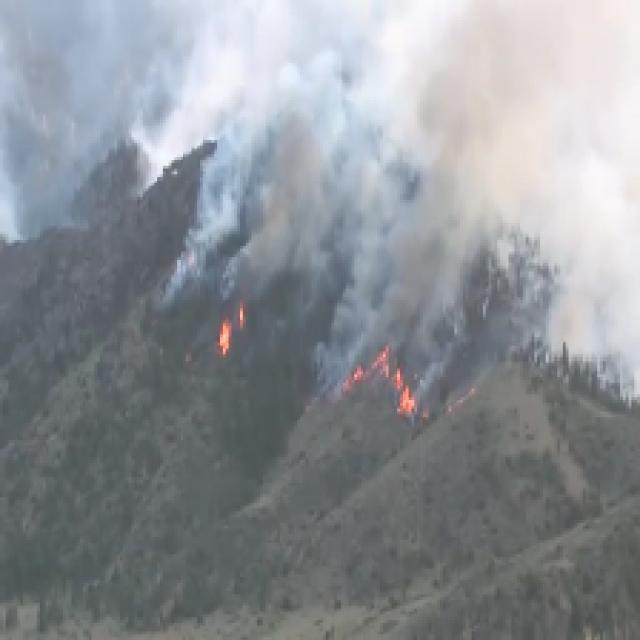Smoke: (252, 7, 640, 313), (17, 9, 242, 142)
